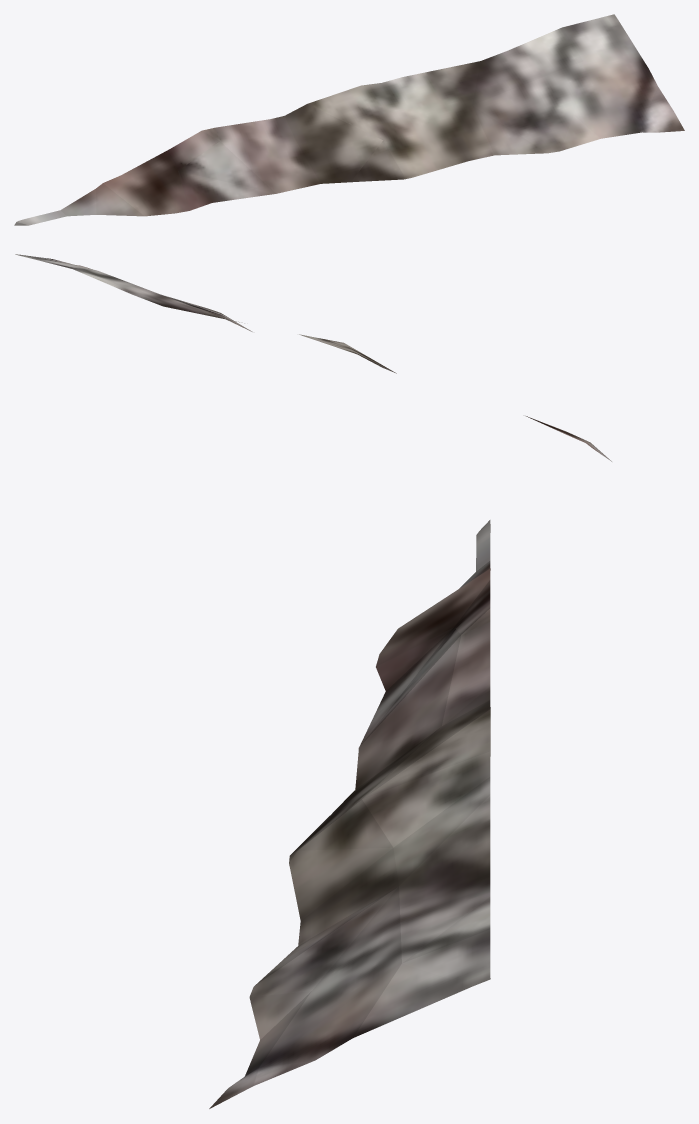
The picture shows the model from 3 angles, top to bottom: view 1: azimuth 30°, elevation 25°; view 2: azimuth 150°, elevation 25°; view 3: azimuth 270°, elevation 25°; orthographic projection. The views are drawn at different scales.
Bounding box in the file's own units: 0.8021 × 0.0831 × 0.1631.
1 material, 1 textured.
